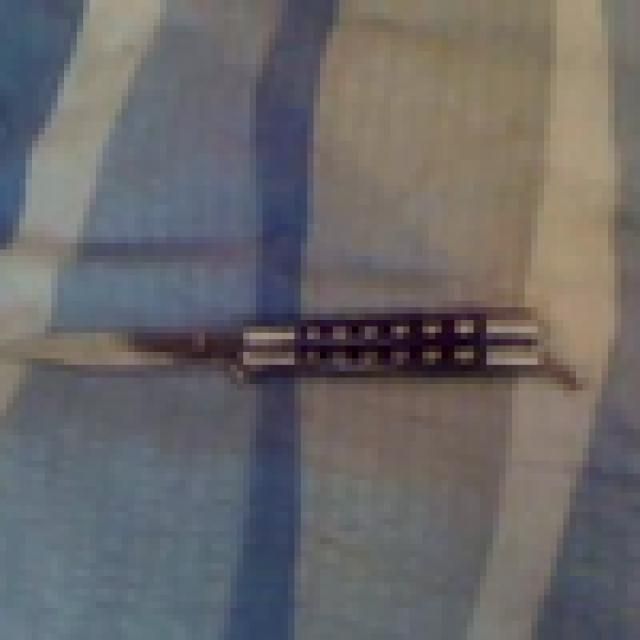Weapons: (4, 286, 560, 402)
